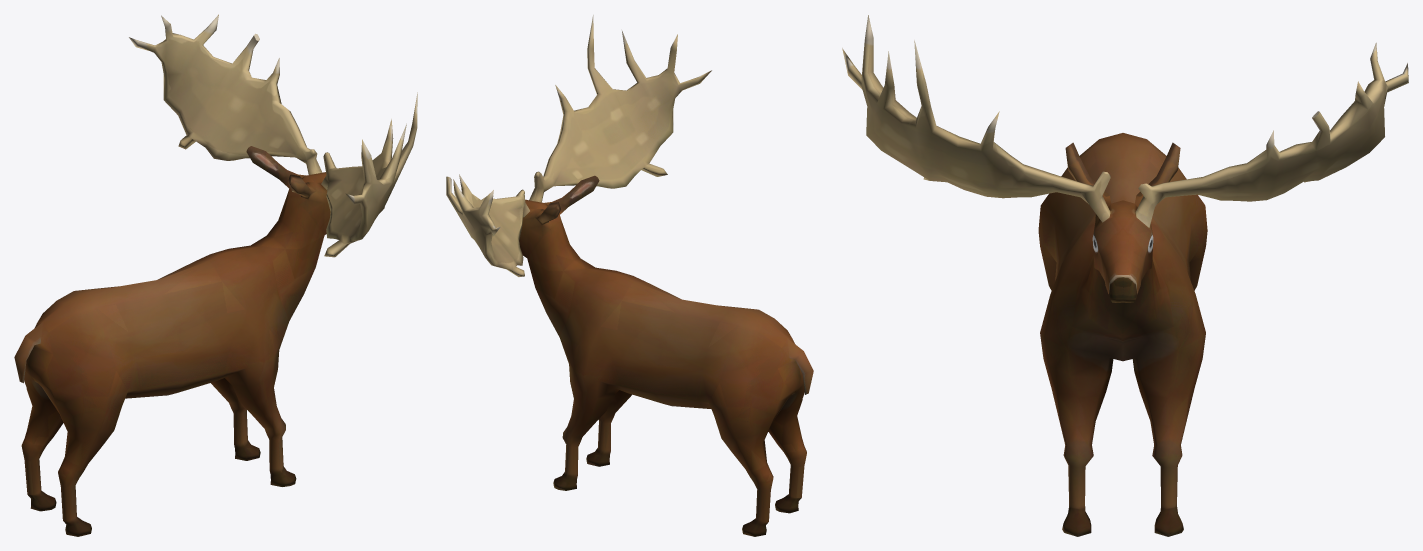
Rendered from SK_Deers.fbx.
The picture shows the model from 3 angles, left to right: view 1: azimuth 30°, elevation 25°; view 2: azimuth 150°, elevation 25°; view 3: azimuth 270°, elevation 25°; orthographic projection. The views are drawn at different scales.
Parts seen in each view (by area): view 1: OBJ_Deer; view 2: OBJ_Deer; view 3: OBJ_Deer.
Boxes of the visible parts, left/top/right/bottom form: OBJ_Deer: left=14, top=14, right=417, bottom=536; OBJ_Deer: left=446, top=15, right=813, bottom=536; OBJ_Deer: left=842, top=15, right=1408, bottom=536.
Size of the model in its own units: 73.18 by 77.11 by 80.07.
